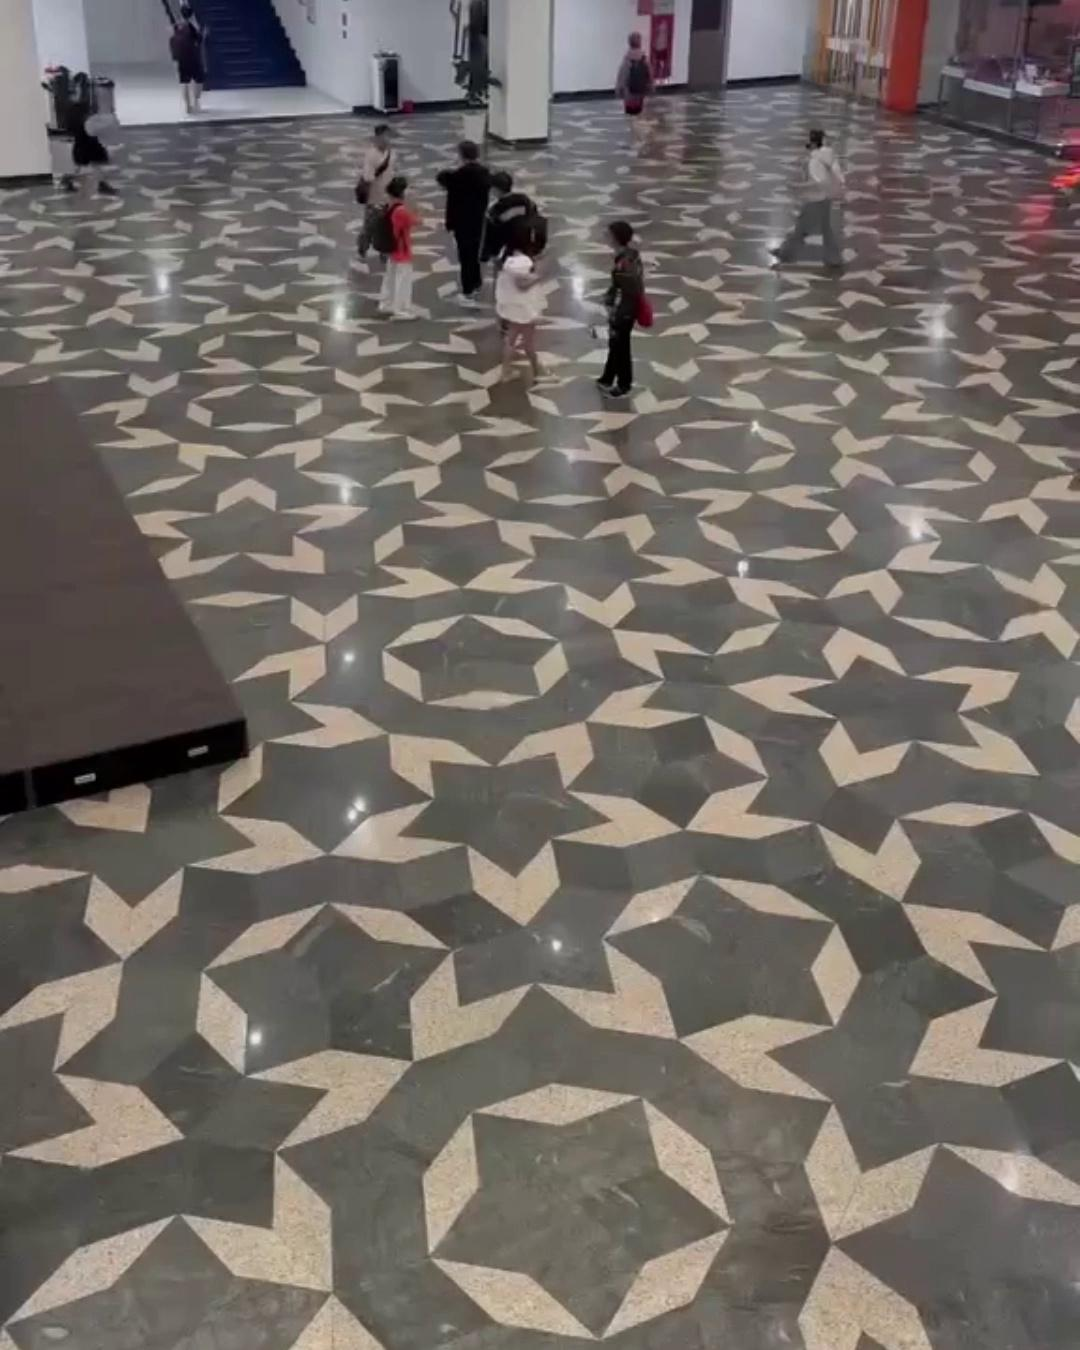your_class: (588, 214, 655, 406), (779, 122, 852, 274), (489, 219, 550, 390), (434, 139, 494, 300), (479, 169, 547, 300), (56, 66, 120, 204), (368, 174, 425, 326), (611, 26, 659, 147), (356, 120, 396, 267), (165, 1, 213, 117)
